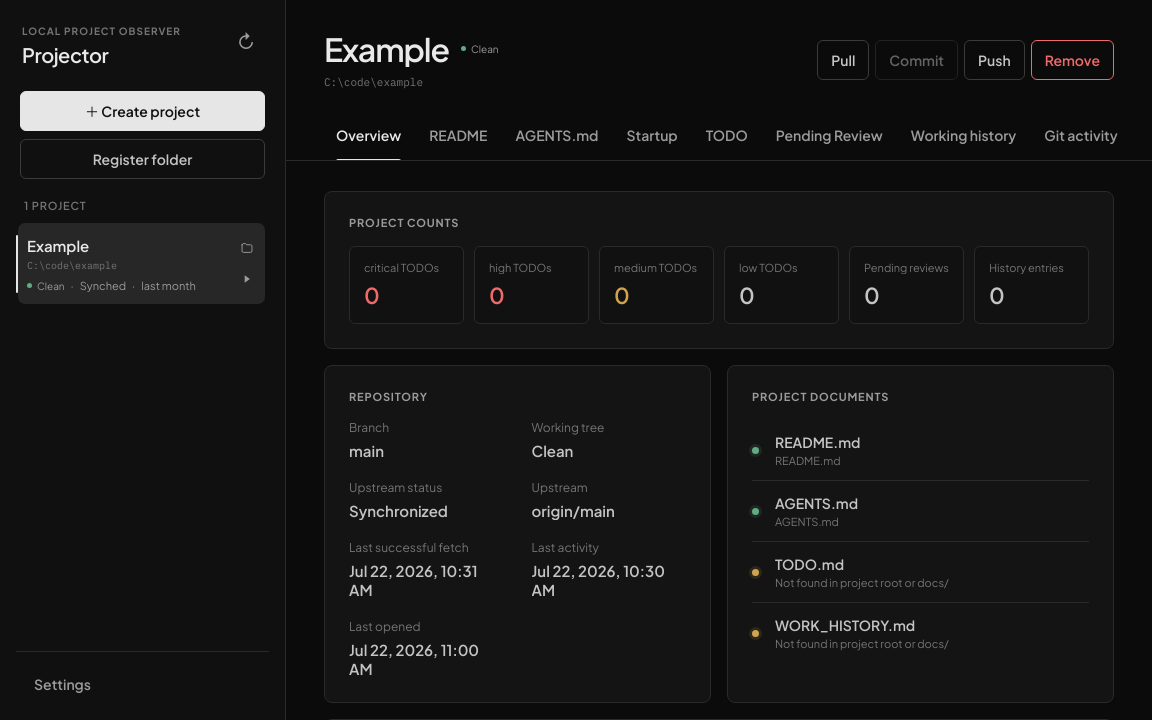
Test: App › surfaces startup failures and restores the Start action
Click the button named "Start Example". click: [246, 279]
box: [232, 264, 261, 293]
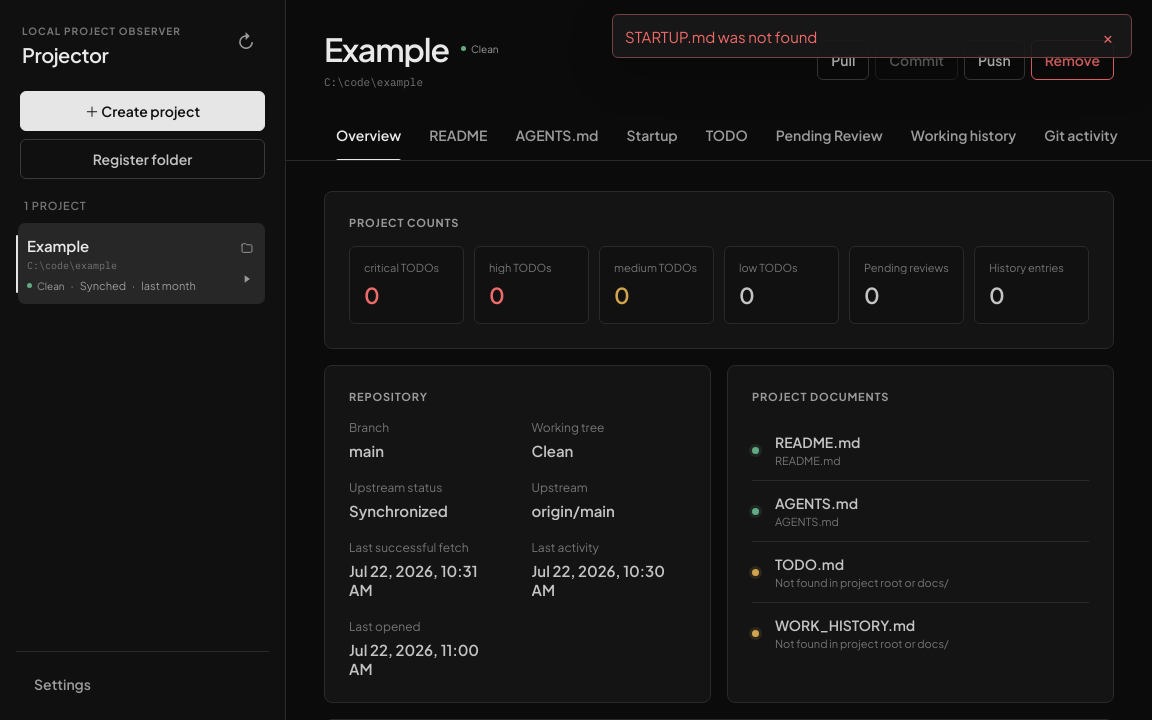
Result: the message shows "STARTUP.md was not found" at [625, 26, 817, 46]
